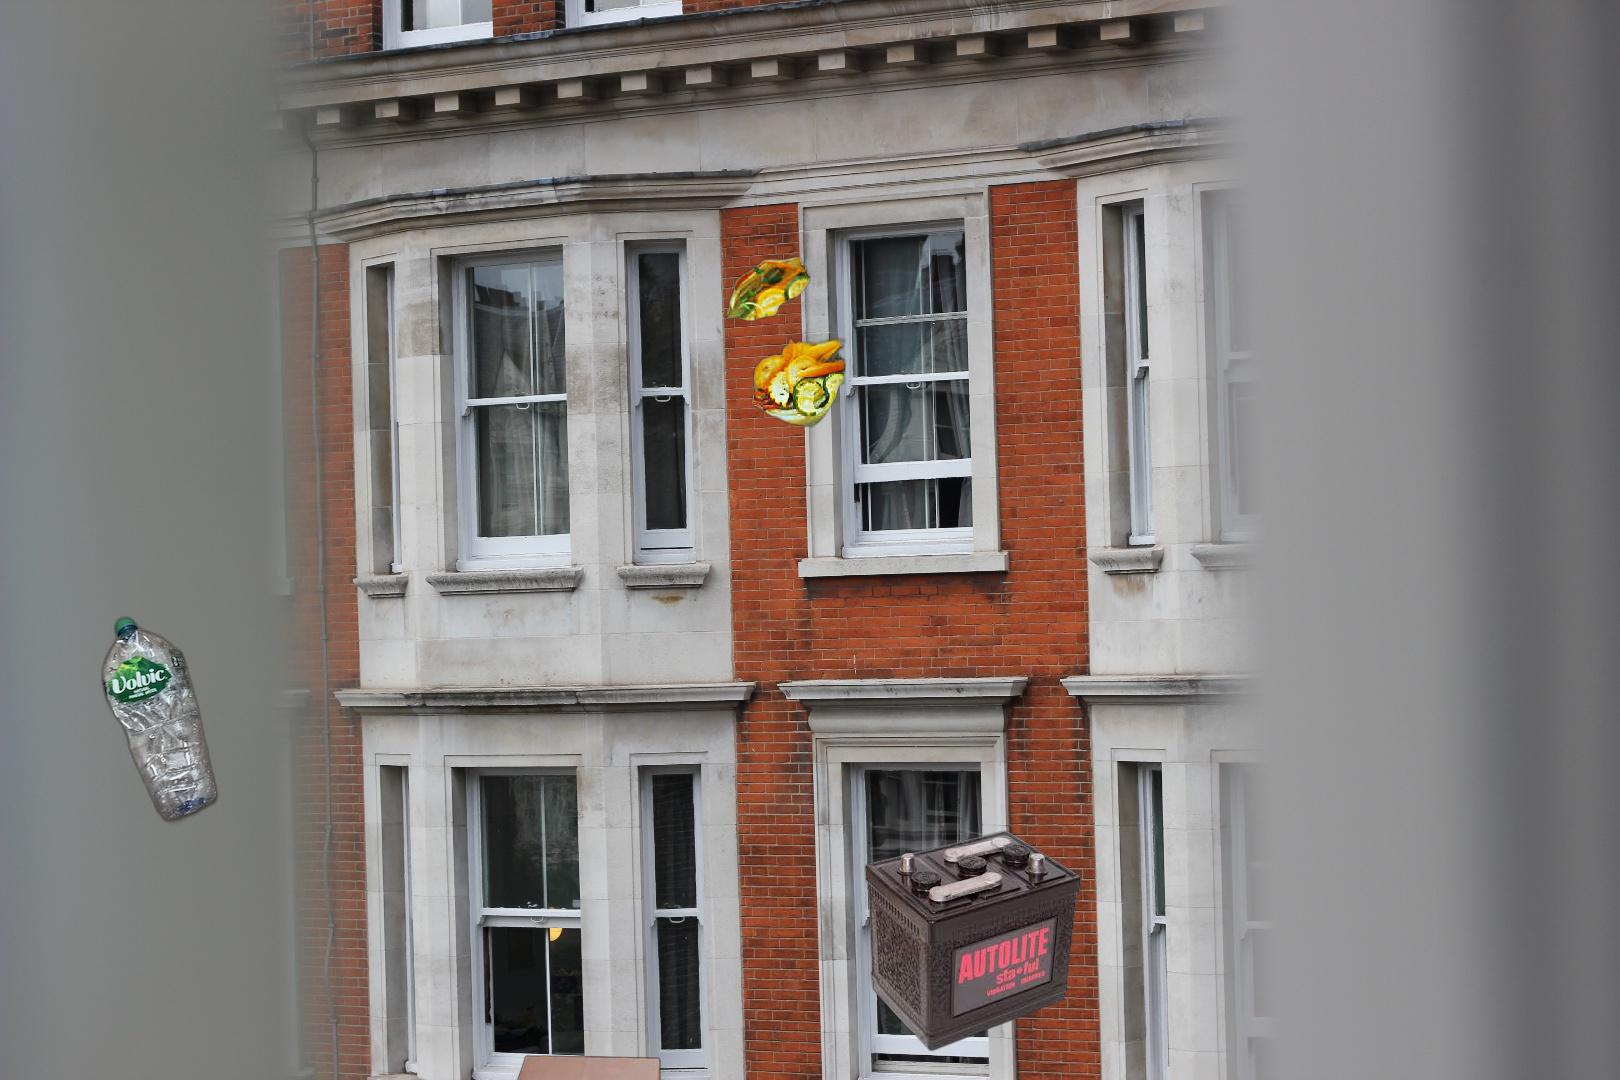battery: (862, 828, 1084, 1053)
biological: (723, 253, 881, 430)
paper-bag: (424, 1053, 664, 1080)
plastic-bottles: (98, 611, 222, 829)
